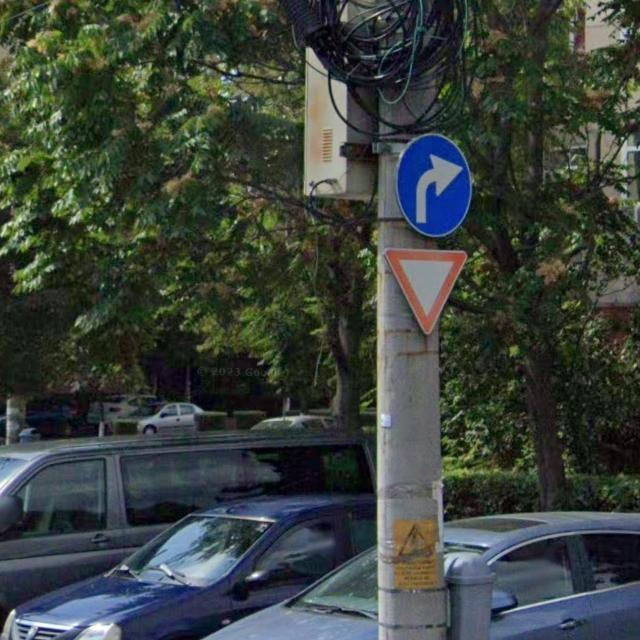prio_give_way: (384, 245, 472, 338)
